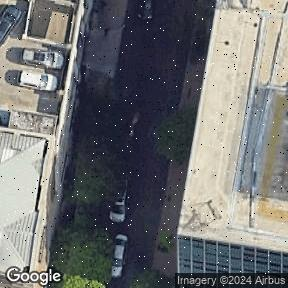vegetation: (45, 133, 131, 288), (146, 100, 199, 167), (128, 269, 173, 288), (153, 230, 178, 254)
